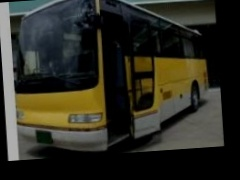bus: (9, 0, 214, 157)
